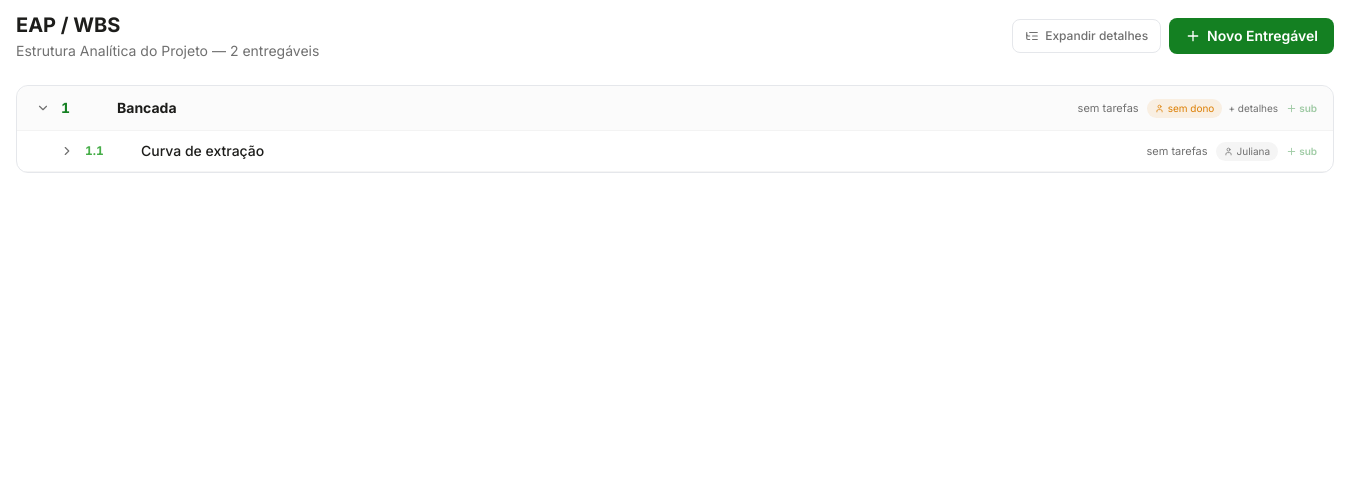
it: WbsClient — detalhes do pacote de trabalho › should expand every work package at once from the header toggle
The image size is (1351, 478).
Step 1. Click the button "Expandir detalhes" → {"x": 1087, "y": 36}, box [1012,19,1161,53]
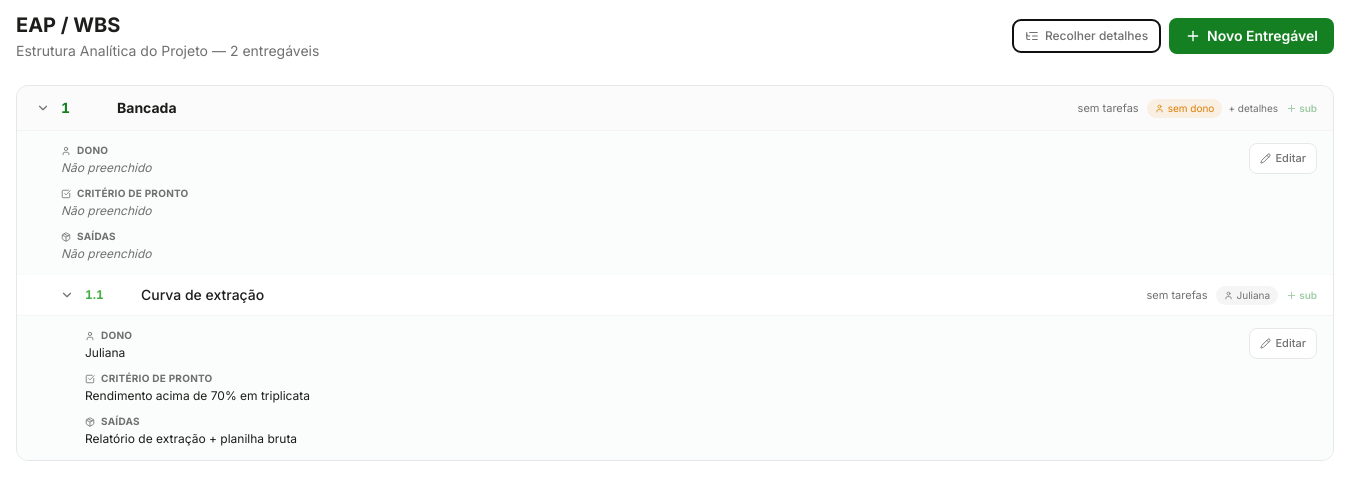
Expected: the text "Rendimento acima de 70% em triplicata" is shown, [85,388,310,403]
Expected: the button "Recolher detalhes" is shown, [1012,19,1161,53]
